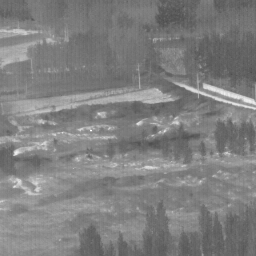aircraft: (90, 130, 92, 132)
